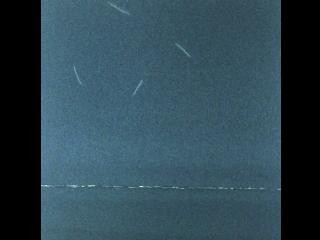crack: (41, 173, 280, 201)
scratch: (164, 37, 200, 62), (65, 56, 88, 90), (124, 72, 150, 102), (100, 0, 138, 18)
